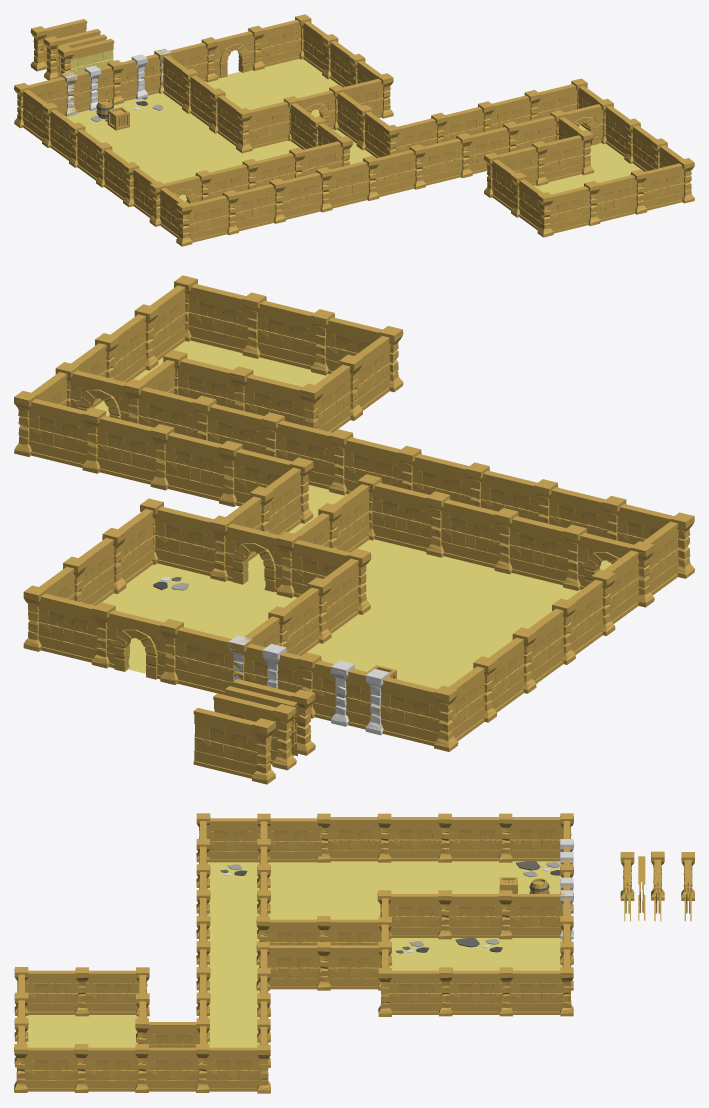
File: house.fbx
The picture shows the model from 3 angles, top to bottom: view 1: azimuth 30°, elevation 25°; view 2: azimuth 150°, elevation 25°; view 3: azimuth 270°, elevation 25°; orthographic projection. The views are drawn at different scales.
Visible parts, largest first — view 1: wall.037, wall.047, wall.035, wall.021, wall.043, wall.041, wall.020, wall.019, wall.036, wall.004, wall.013, door (+66 smaller); view 2: wall.003, wall.046, wall.018, wall.035, wall.004, wall.023, wall.040, wall.024, wall.042, wall.036, wall.025, wall.012 (+63 smaller); view 3: wall.028, wall.005, wall.034, wall.051, wall.010, wall.015, wall.050, wall.011, wall.033, wall.030, wall.031, wall.049 (+45 smaller).
Boxes of the visible parts, x1,y1,x2,y2 form: wall.037: (537,186,590,237); wall.047: (176,195,229,246); wall.035: (630,163,684,214); wall.021: (409,138,462,189); wall.043: (222,184,275,235); wall.041: (269,172,322,223); wall.020: (363,150,416,200); wall.019: (316,161,369,212); wall.036: (584,175,637,225); wall.004: (248,20,301,70); wall.013: (248,96,299,148); door: (201,31,254,82); wall.003: (193,708,275,784); wall.046: (380,677,458,751); wall.018: (372,482,450,557); wall.035: (188,284,266,358); wall.004: (38,593,115,668); wall.023: (150,424,224,501); wall.040: (440,499,518,574); wall.024: (82,407,156,484); wall.042: (509,516,586,590); wall.036: (257,300,334,375); wall.025: (14,391,88,467); wall.012: (140,498,216,575); wall.028: (196,1044,260,1092); wall.005: (510,967,573,1016); wall.034: (14,1044,78,1092); wall.051: (377,813,441,862); wall.010: (449,967,513,1016); wall.015: (317,941,381,990); wall.050: (438,813,502,862); wall.011: (389,967,452,1016); wall.033: (74,1044,138,1092); wall.030: (135,1044,199,1092); wall.031: (25,967,88,1016); wall.049: (499,813,563,862).
Bounding box in the file's own units: 3705 × 324 × 4495.
